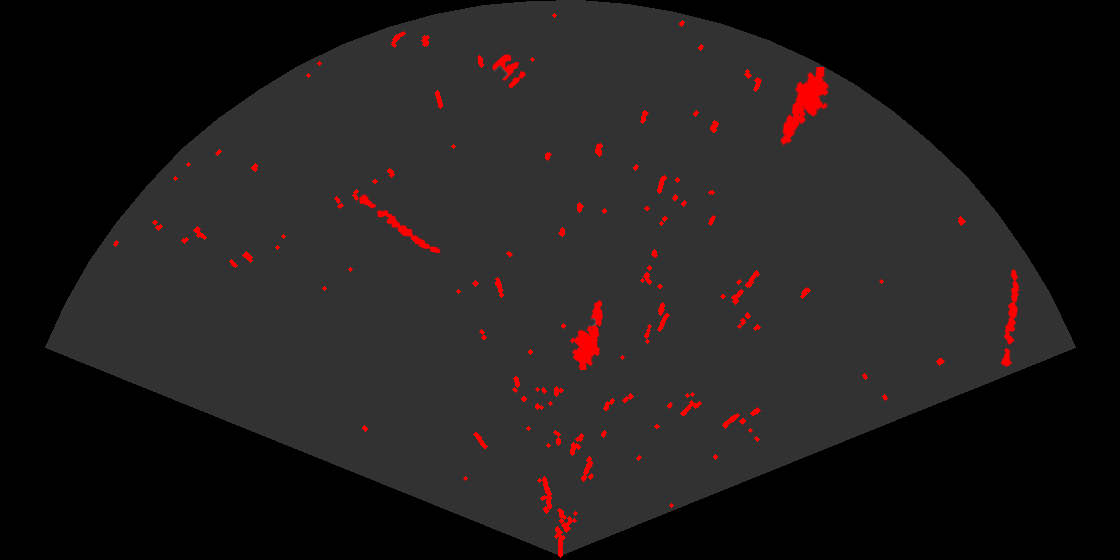ball: (491, 53, 527, 90)
chain: (358, 193, 442, 255), (999, 267, 1021, 370)
frogman: (779, 67, 830, 147), (568, 298, 604, 370)
